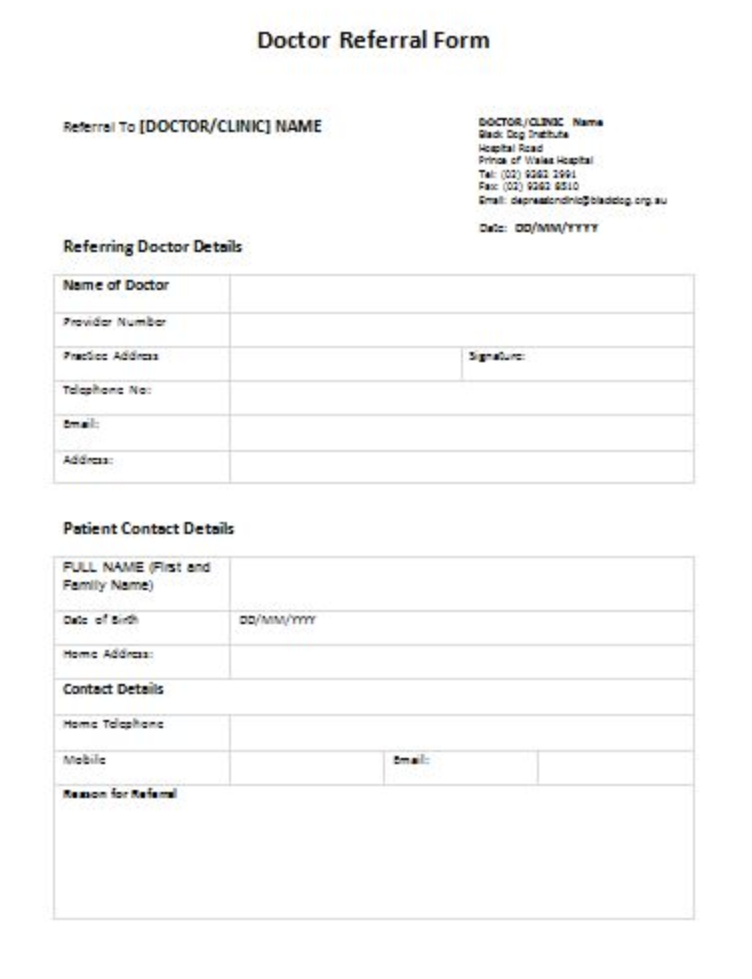textbox: (50, 782, 700, 925), (226, 553, 698, 616), (226, 638, 699, 689), (225, 270, 699, 320), (225, 305, 701, 353), (224, 408, 700, 456), (227, 605, 699, 652), (226, 708, 696, 755), (225, 444, 702, 489), (226, 377, 701, 419), (224, 342, 465, 385), (457, 342, 699, 384), (534, 747, 700, 792), (225, 749, 392, 790)
